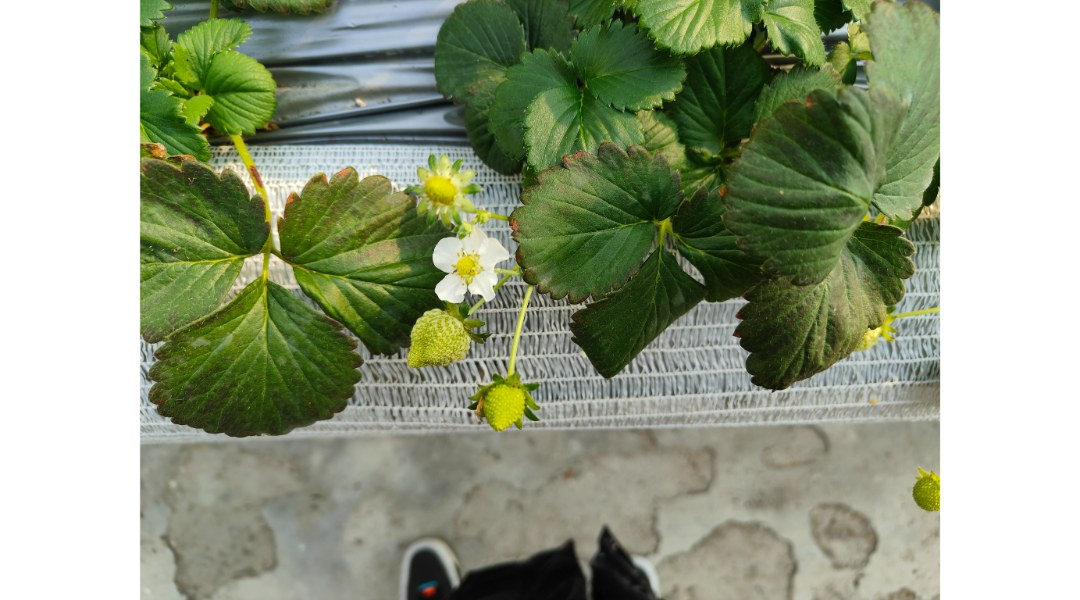berry: (390, 302, 479, 373), (469, 365, 545, 438)
flower: (413, 225, 512, 309)
strain: (233, 137, 273, 246), (512, 280, 535, 368)
